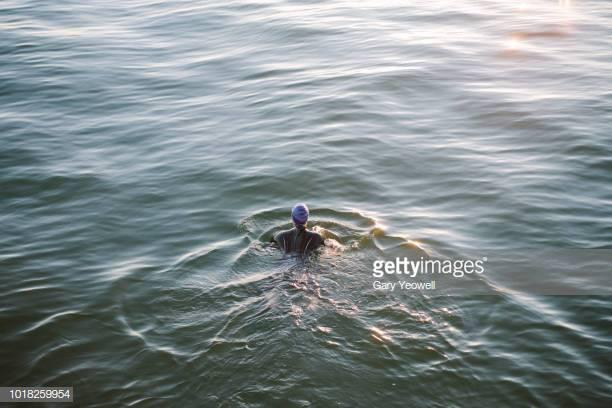human: (266, 202, 329, 263)
